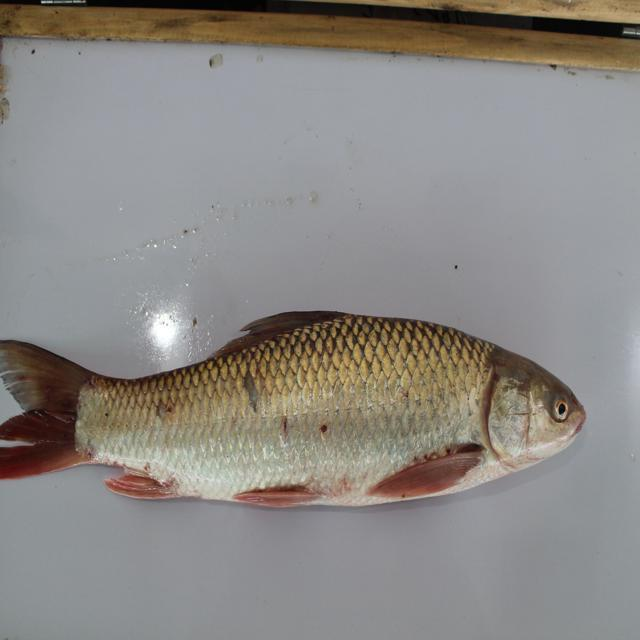Mori: (4, 286, 601, 518)
